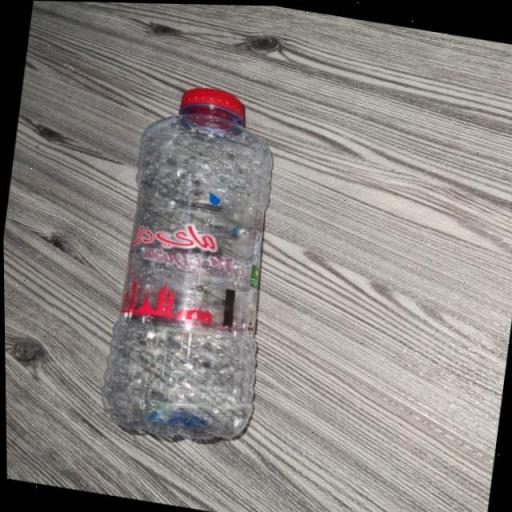plastic: (92, 78, 290, 453)
